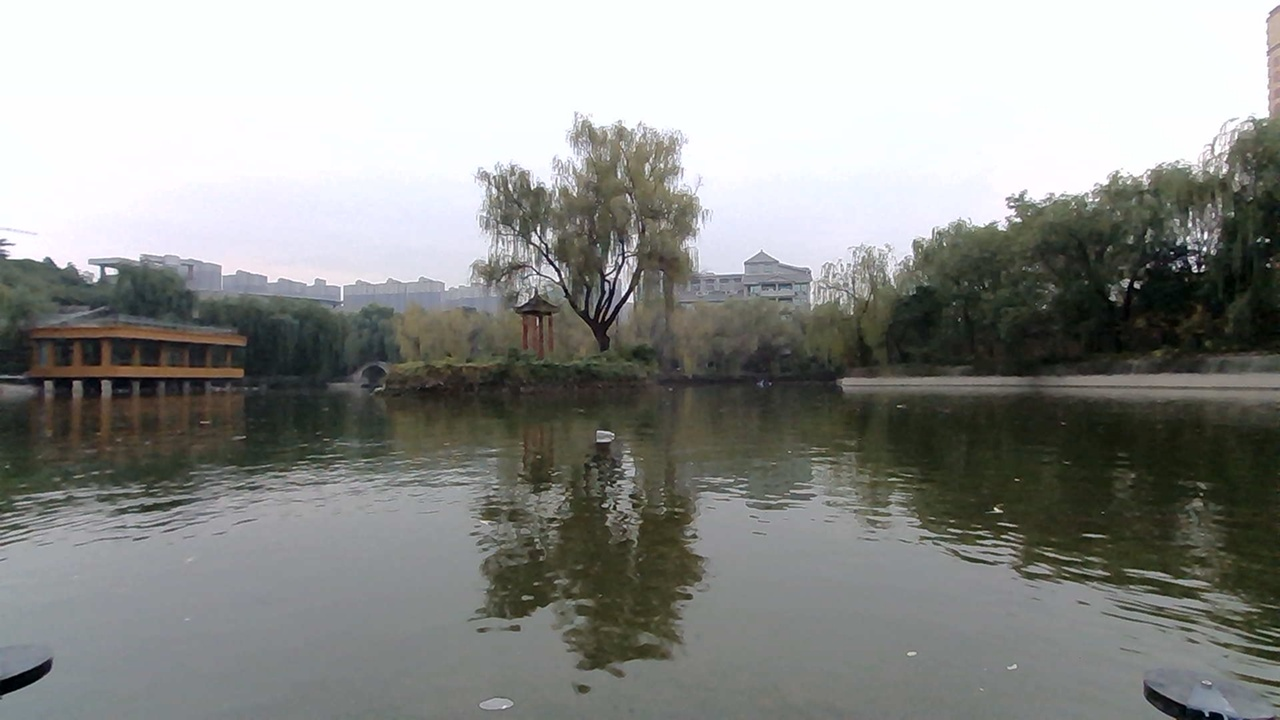bottle: (585, 407, 649, 440)
